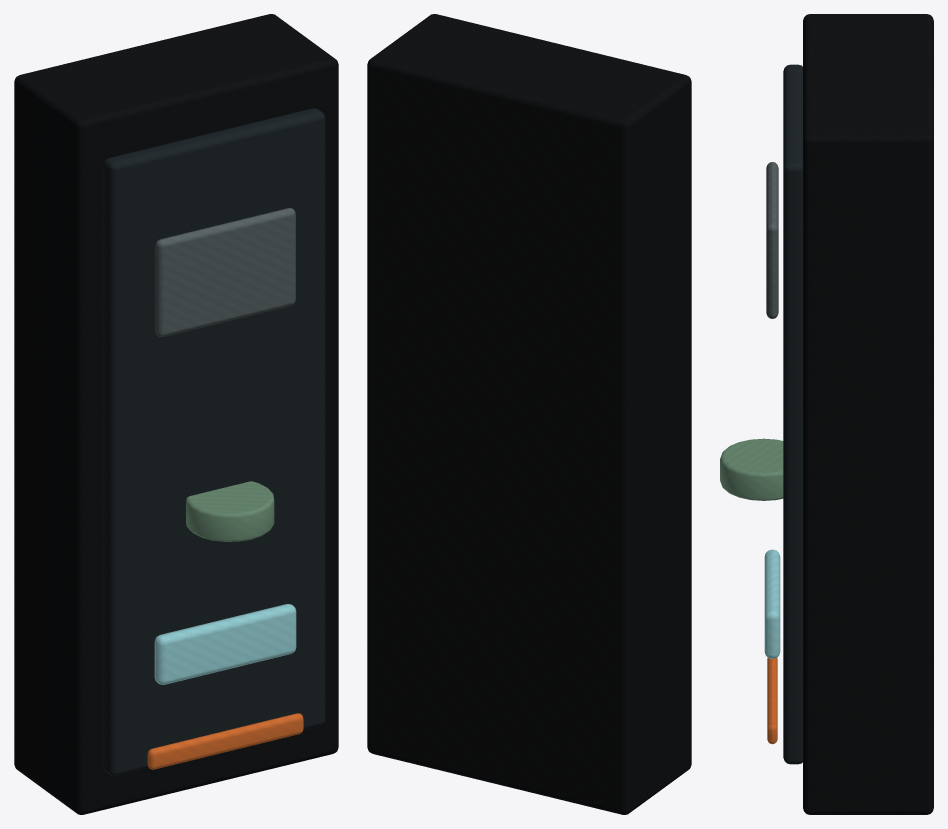
File: WallIntercom.glb
The picture shows the model from 3 angles, left to right: view 1: azimuth 30°, elevation 25°; view 2: azimuth 150°, elevation 25°; view 3: azimuth 270°, elevation 25°; orthographic projection. The views are drawn at different scales.
Parts seen in each view (by area): view 1: WallIntercom_Mesh; view 2: WallIntercom_Mesh; view 3: WallIntercom_Mesh.
Boxes of the visible parts, x1=… form: WallIntercom_Mesh: x1=14, y1=14, x2=338, y2=814; WallIntercom_Mesh: x1=367, y1=14, x2=691, y2=814; WallIntercom_Mesh: x1=720, y1=14, x2=933, y2=814.
Size of the model in its own units: 0.34 by 0.86 by 0.245.
Materials: 6 (6 with a texture image).
